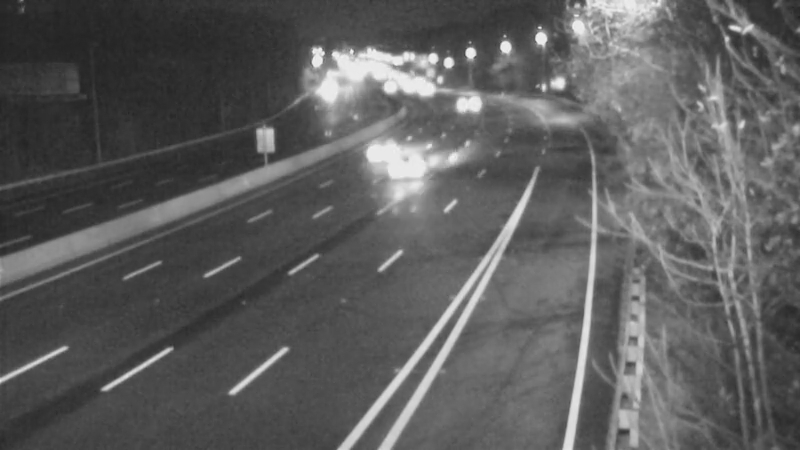vehicle: (376, 129, 456, 209), (439, 80, 489, 130), (363, 125, 413, 175)
